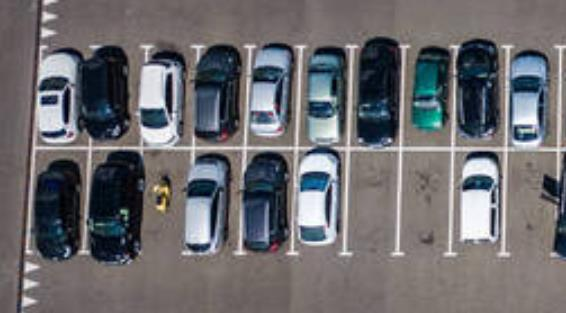car: (84, 162, 139, 266), (353, 40, 400, 150), (451, 40, 502, 141), (28, 168, 82, 261), (188, 49, 240, 144), (182, 158, 231, 257), (294, 151, 343, 250), (238, 160, 289, 255), (33, 47, 82, 144), (454, 153, 503, 249), (79, 52, 131, 141), (134, 59, 184, 147), (507, 51, 552, 146), (248, 47, 294, 137), (304, 51, 347, 147), (409, 53, 448, 132)
